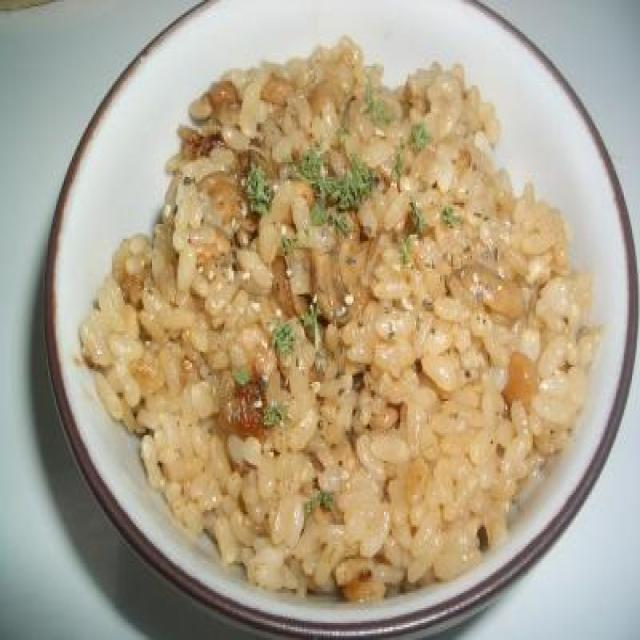米饭主食: (35, 0, 640, 640)
